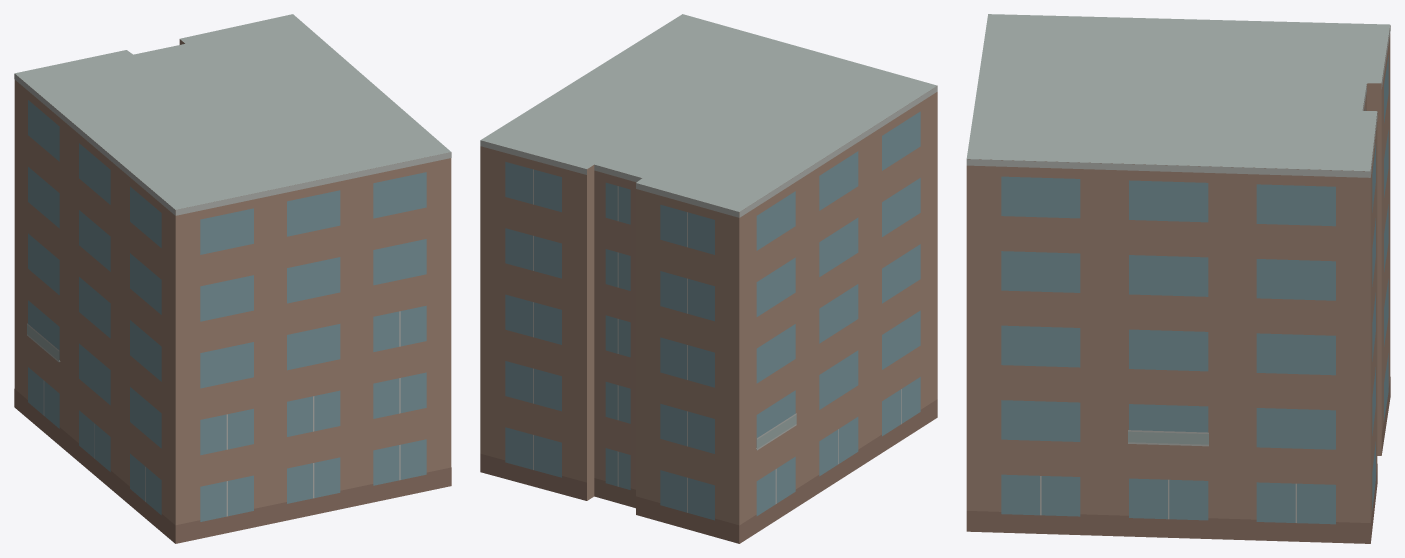
The model's file is survey-upis-33038359.glb.
3 renders of one model, left to right at view 1: azimuth 30°, elevation 25°; view 2: azimuth 150°, elevation 25°; view 3: azimuth 270°, elevation 25°, orthographic. The views are drawn at different scales.
Visible parts, largest first — view 1: survey-upis-33038359.tmp; view 2: survey-upis-33038359.tmp; view 3: survey-upis-33038359.tmp.
Boxes of the visible parts, x1=… form: survey-upis-33038359.tmp: x1=14, y1=14, x2=451, y2=543; survey-upis-33038359.tmp: x1=480, y1=14, x2=937, y2=543; survey-upis-33038359.tmp: x1=966, y1=14, x2=1390, y2=543.
Bounding box in the file's own units: 12.5 × 13.8 × 14.24.
